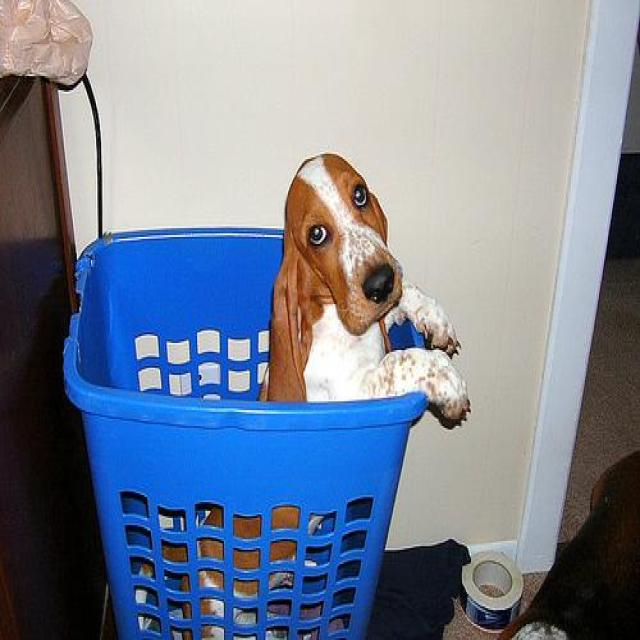basset: (135, 152, 472, 637)
